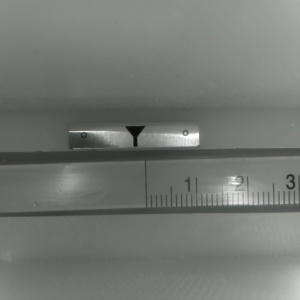1: (183, 177, 190, 192)
2: (231, 177, 242, 191)
3: (285, 174, 295, 189)
finger: (125, 127, 144, 145)
